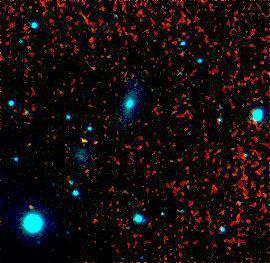star: (15, 191, 45, 221)
